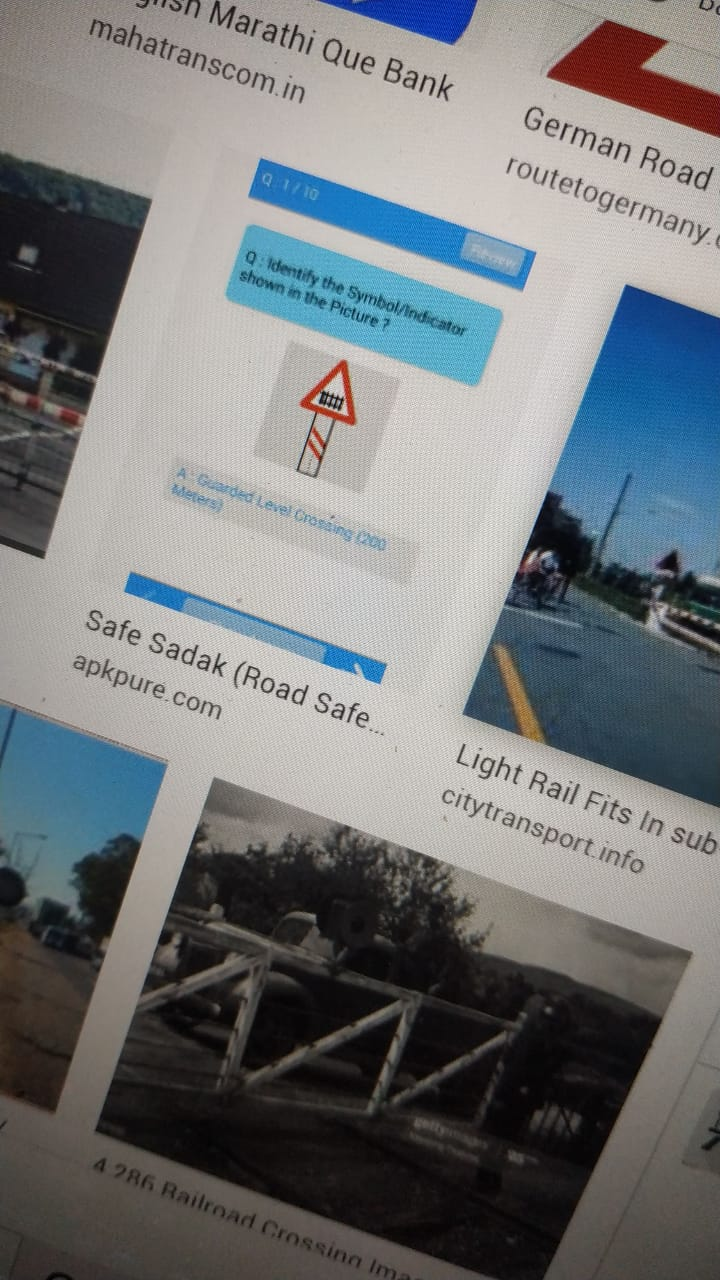GUARDED LEVEL CROSSING: (286, 352, 368, 430)
